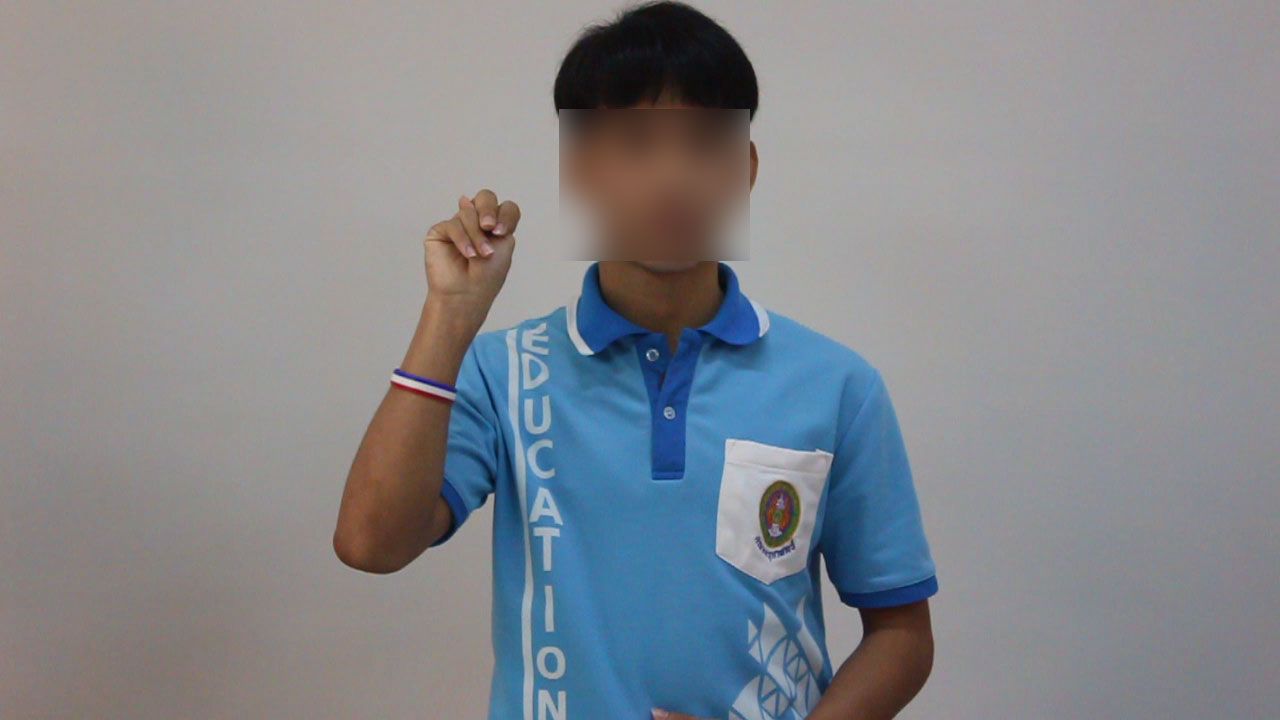nor: (407, 180, 541, 313)
